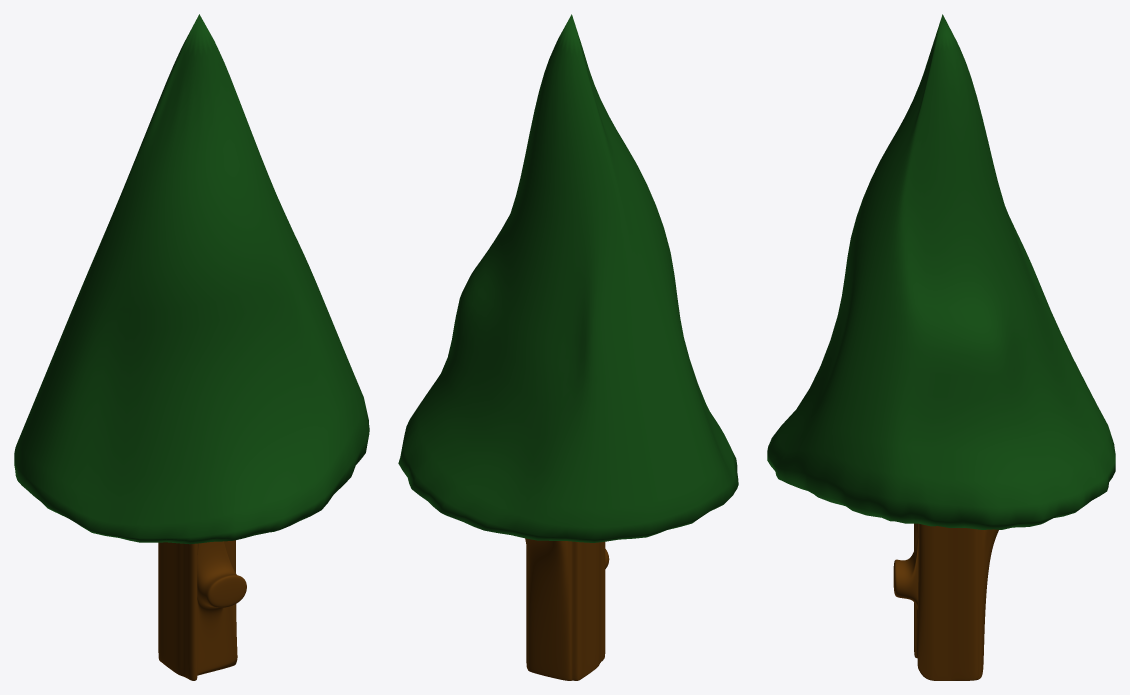
File: TreePunta.fbx
3 renders of one model, left to right at view 1: azimuth 30°, elevation 25°; view 2: azimuth 150°, elevation 25°; view 3: azimuth 270°, elevation 25°, orthographic.
Parts seen in each view (by area): view 1: polySurface9; view 2: polySurface9; view 3: polySurface9.
Part boxes in pixels (box(x1,y1,x2,y2)): polySurface9: box(14, 14, 369, 680); polySurface9: box(398, 14, 738, 680); polySurface9: box(767, 14, 1115, 680).
Size of the model in its own units: 8.22 by 17.04 by 8.24.
